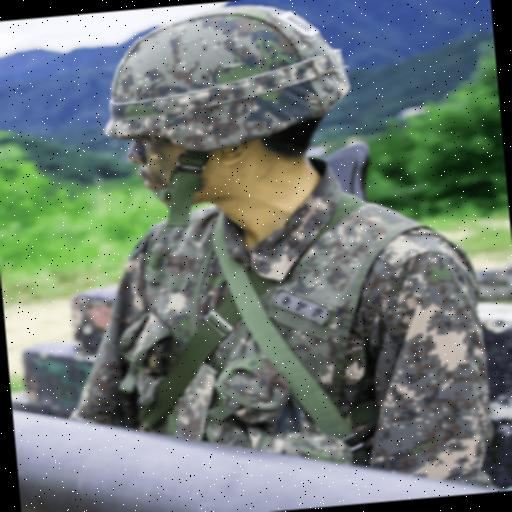korea army: (33, 0, 501, 512)
